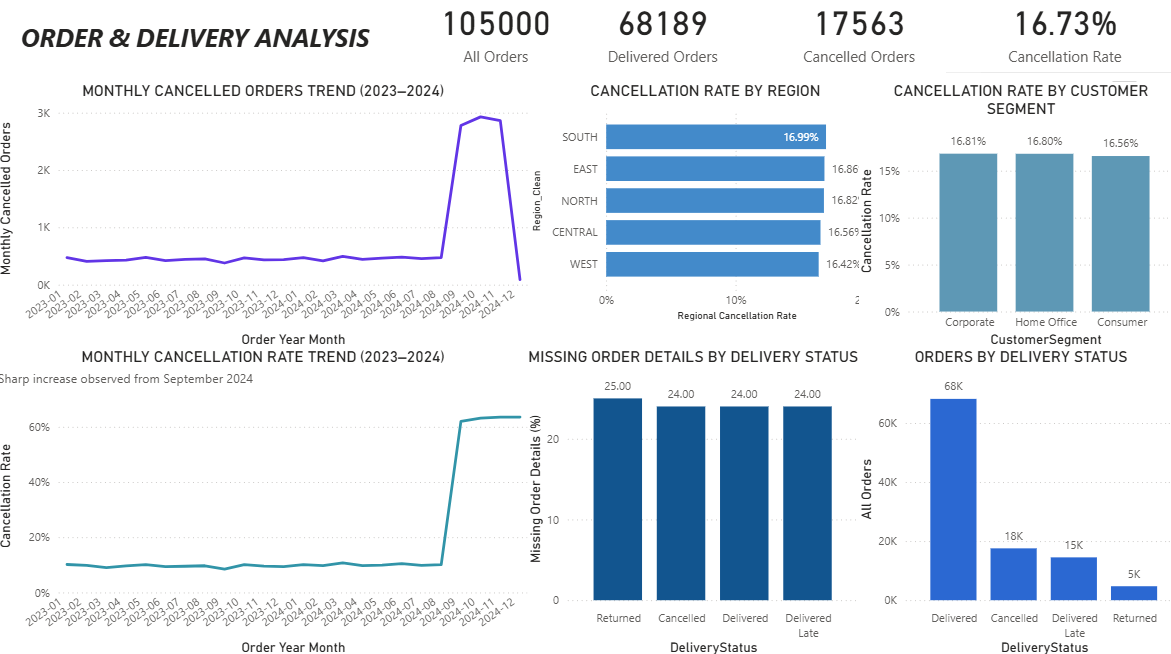

The dashboard page shown, as its layout file describes it:
{"tool":"powerbi","page":{"name":"Order & Delivery Analysis","canvas":[1280,720],"ordinal":3},"visuals":[{"type":"card","fields":{"Values":["vw_clean_orders.All Orders"]},"box":[434,0,206,92],"z":0},{"type":"card","fields":{"Values":["vw_clean_orders.Cancellation Rate"]},"box":[1024,0,256,92],"z":1000},{"type":"card","fields":{"Values":["vw_clean_orders.Cancelled Orders"]},"box":[798,0,262,92],"z":2000},{"type":"card","fields":{"Values":["vw_clean_orders.Delivered Orders"]},"box":[594,0,246,92],"z":3000},{"type":"clusteredColumnChart","title":"ORDERS BY DELIVERY STATUS","fields":{"Y":["vw_clean_orders.All Orders"],"Category":["vw_clean_orders.DeliveryStatus"]},"box":[930,388,350,332],"z":4000},{"type":"lineChart","title":"MONTHLY CANCELLED ORDERS TREND (2023–2024)","fields":{"Y":["vw_clean_orders.Monthly Cancelled Orders"],"Category":["vw_clean_orders.Order Year Month"]},"box":[0,102,572,286],"z":5000},{"type":"lineChart","title":"MONTHLY CANCELLATION RATE TREND (2023–2024)","fields":{"Category":["vw_clean_orders.Order Year Month"],"Y":["vw_clean_orders.Cancellation Rate"]},"box":[0,388,572,332],"z":6000},{"type":"clusteredBarChart","title":"CANCELLATION RATE BY REGION","fields":{"Category":["vw_clean_customers.Region_Clean"],"Y":["vw_clean_customers.Regional Cancellation Rate"]},"box":[574,102,378,258],"z":7000},{"type":"clusteredColumnChart","title":"\tCANCELLATION RATE BY CUSTOMER SEGMENT","fields":{"Category":["vw_clean_customers.CustomerSegment"],"Y":["vw_clean_customers.Regional Cancellation Rate"]},"box":[930,102,350,286],"z":8000},{"type":"clusteredColumnChart","title":"MISSING ORDER DETAILS BY DELIVERY STATUS","fields":{"Category":["vw_order_detail_quality.DeliveryStatus"],"Y":["Sum(vw_order_detail_quality.missing_detail_percentage)"]},"box":[572,388,358,332],"z":9000},{"type":"textbox","box":[20,30,434,62],"z":10000}]}

Visuals, with their boxes in screenshot pixels (x1, y1, x2, y2), scaled from the page's 1280x720 canvas onto the 1171x654 screenshot:
card - vw_clean_orders.All Orders: [397, 0, 586, 84]
card - vw_clean_orders.Cancellation Rate: [937, 0, 1170, 84]
card - vw_clean_orders.Cancelled Orders: [730, 0, 970, 84]
card - vw_clean_orders.Delivered Orders: [543, 0, 768, 84]
"ORDERS BY DELIVERY STATUS" clusteredColumnChart: [851, 352, 1170, 653]
"MONTHLY CANCELLED ORDERS TREND (2023–2024)" lineChart: [0, 93, 523, 352]
"MONTHLY CANCELLATION RATE TREND (2023–2024)" lineChart: [0, 352, 523, 653]
"CANCELLATION RATE BY REGION" clusteredBarChart: [525, 93, 871, 327]
"	CANCELLATION RATE BY CUSTOMER SEGMENT" clusteredColumnChart: [851, 93, 1170, 352]
"MISSING ORDER DETAILS BY DELIVERY STATUS" clusteredColumnChart: [523, 352, 851, 653]
textbox: [18, 27, 415, 84]
